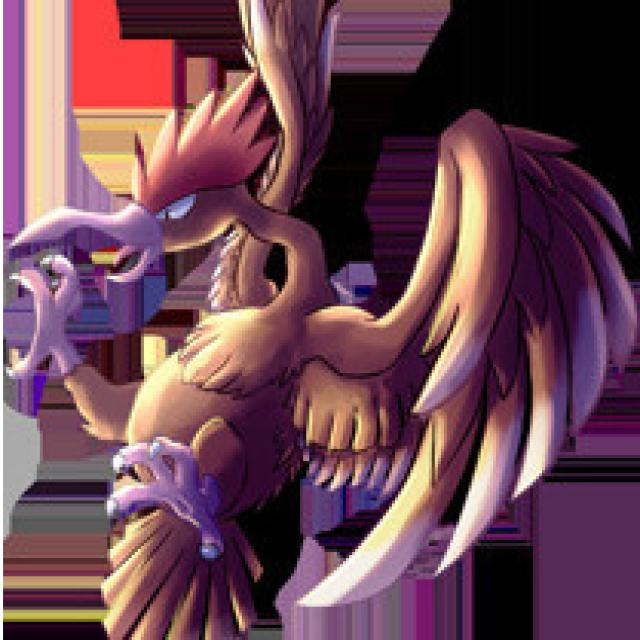Fearow: (56, 91, 522, 551)
